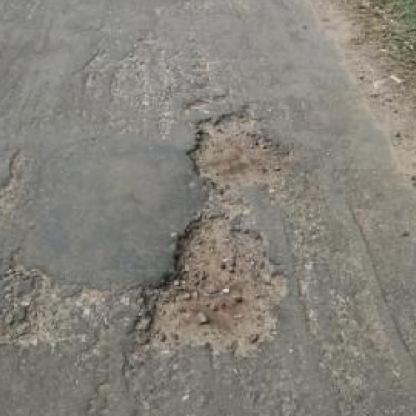pothole: (138, 210, 291, 357), (186, 105, 288, 187), (0, 268, 90, 352)
